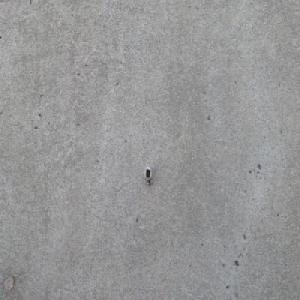MetalPart: (144, 166, 153, 188)
